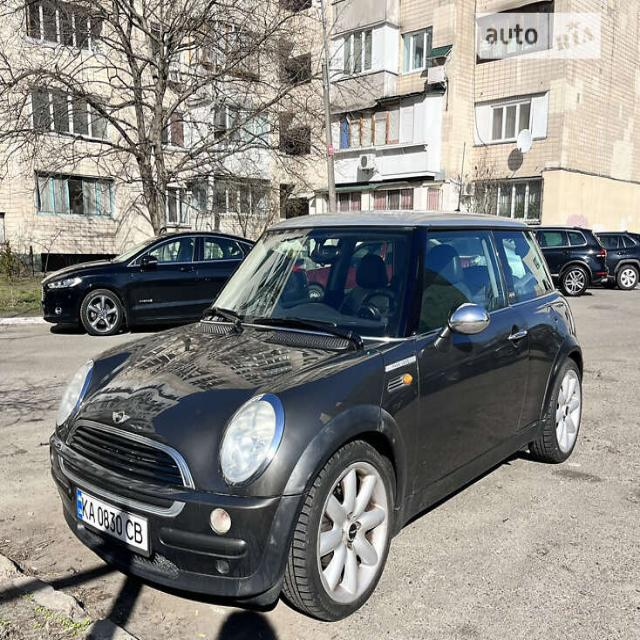plate: (72, 479, 150, 563)
